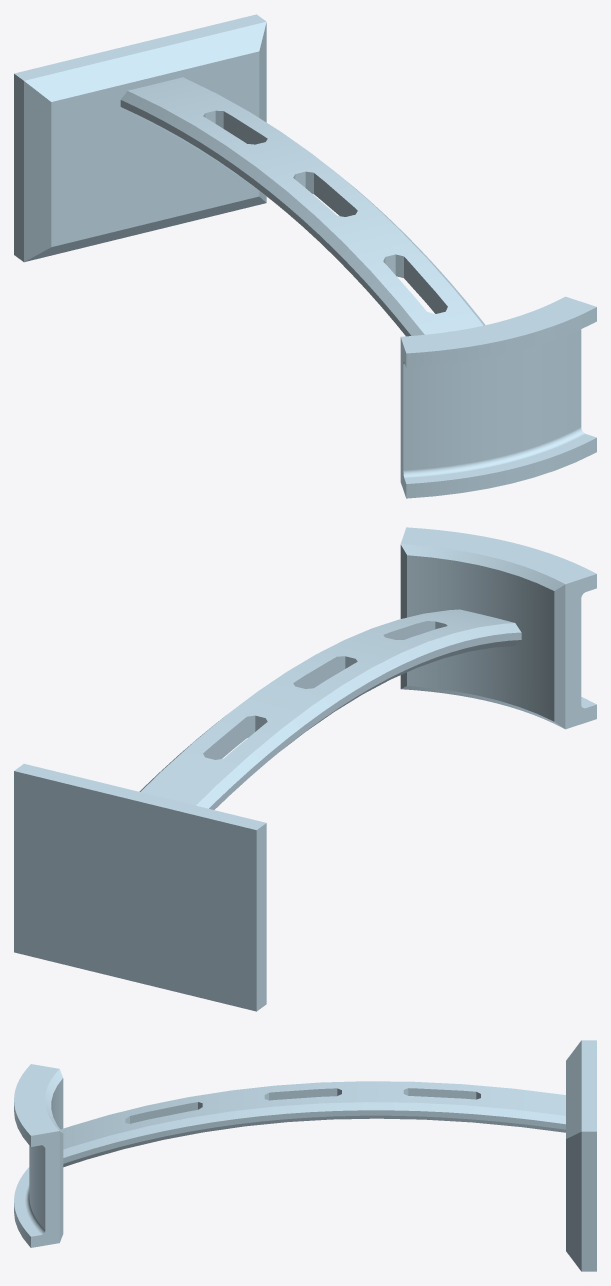
Rendered from simple_headphone_stand.glb.
3 views of the same model, one above another, from view 1: azimuth 30°, elevation 25°; view 2: azimuth 150°, elevation 25°; view 3: azimuth 270°, elevation 25° (orthographic). The views are drawn at different scales.
Visible parts, largest first — view 1: Part 1; view 2: Part 1; view 3: Part 1.
Part boxes in pixels (x1=…): Part 1: x1=14, y1=14, x2=596, y2=498; Part 1: x1=14, y1=527, x2=596, y2=1011; Part 1: x1=14, y1=1040, x2=596, y2=1271.
Size of the model in its own units: 0.07 by 0.05 by 0.1885.
